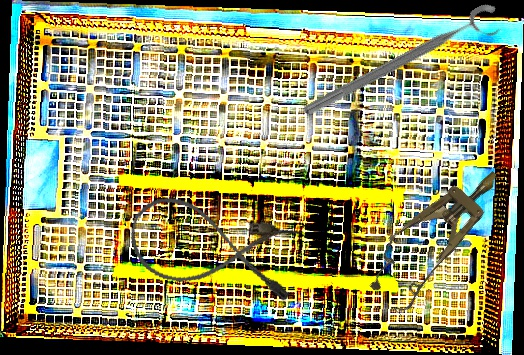Cannula: (122, 190, 304, 307)
Fixation Ring: (299, 0, 508, 132)
Speculum: (355, 150, 520, 320)
